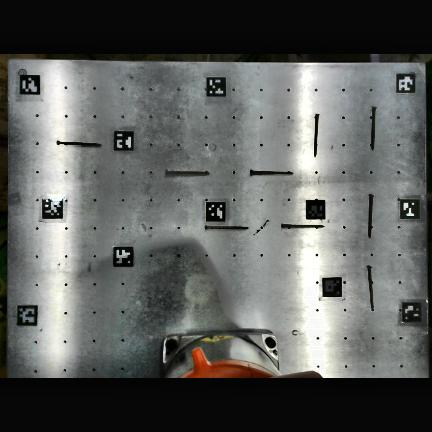golden_screw: (367, 266, 373, 311), (371, 107, 376, 149), (314, 114, 319, 156), (57, 141, 101, 145), (205, 226, 248, 230), (369, 195, 373, 237), (251, 171, 293, 175), (282, 224, 323, 228), (167, 171, 209, 174)
marker: (17, 304, 38, 325), (400, 198, 420, 219), (42, 198, 62, 218), (113, 246, 133, 266), (114, 130, 134, 150), (206, 75, 226, 95), (403, 300, 422, 321), (206, 201, 225, 222), (20, 75, 40, 94), (396, 73, 415, 93), (306, 200, 325, 219), (323, 278, 342, 296)
